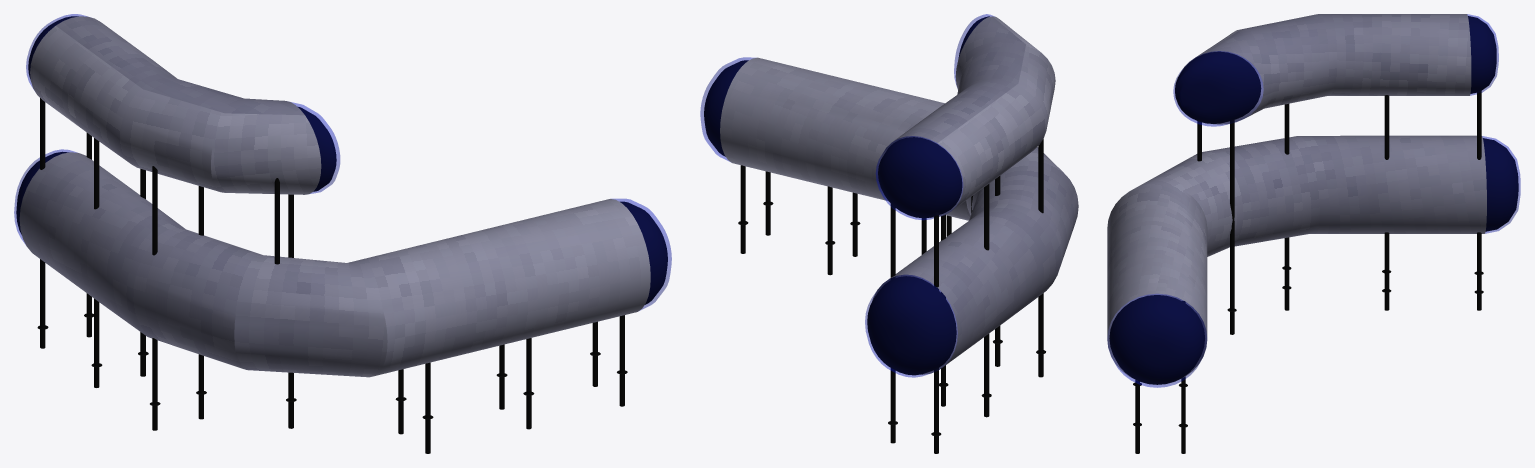
The model's file is The Base.glb.
3 renders of one model, left to right at view 1: azimuth 30°, elevation 25°; view 2: azimuth 150°, elevation 25°; view 3: azimuth 270°, elevation 25°, orthographic. The views are drawn at different scales.
Visible parts, largest first — view 1: Cylinder; view 2: Cylinder; view 3: Cylinder.
Part boxes in pixels (x1,y1,x2,y2): Cylinder: (14,14,671,453); Cylinder: (700,14,1078,453); Cylinder: (1107,14,1520,453).
Bounding box in the file's own units: 37.26 × 26.31 × 34.54.
Materials: 5 (2 with a texture image).
